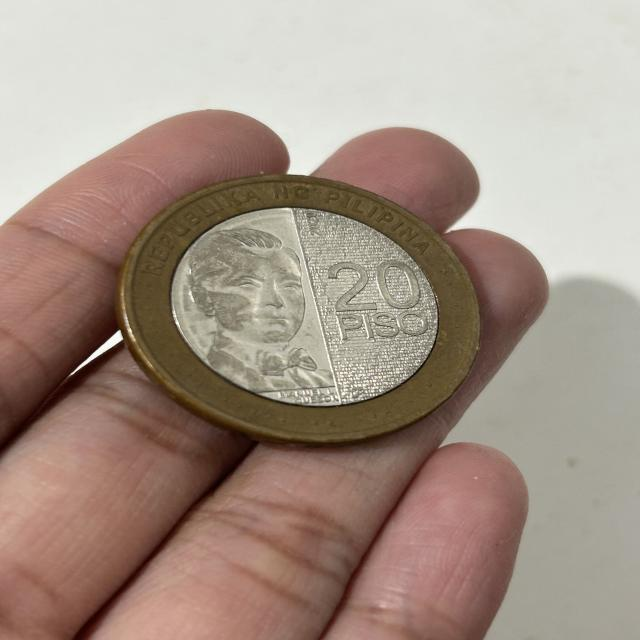20_New_Front: (318, 257, 444, 350)
